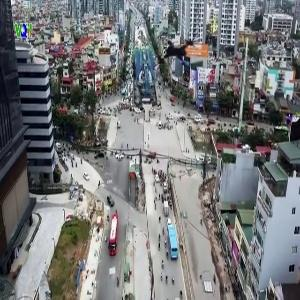drone: (153, 29, 214, 90)
